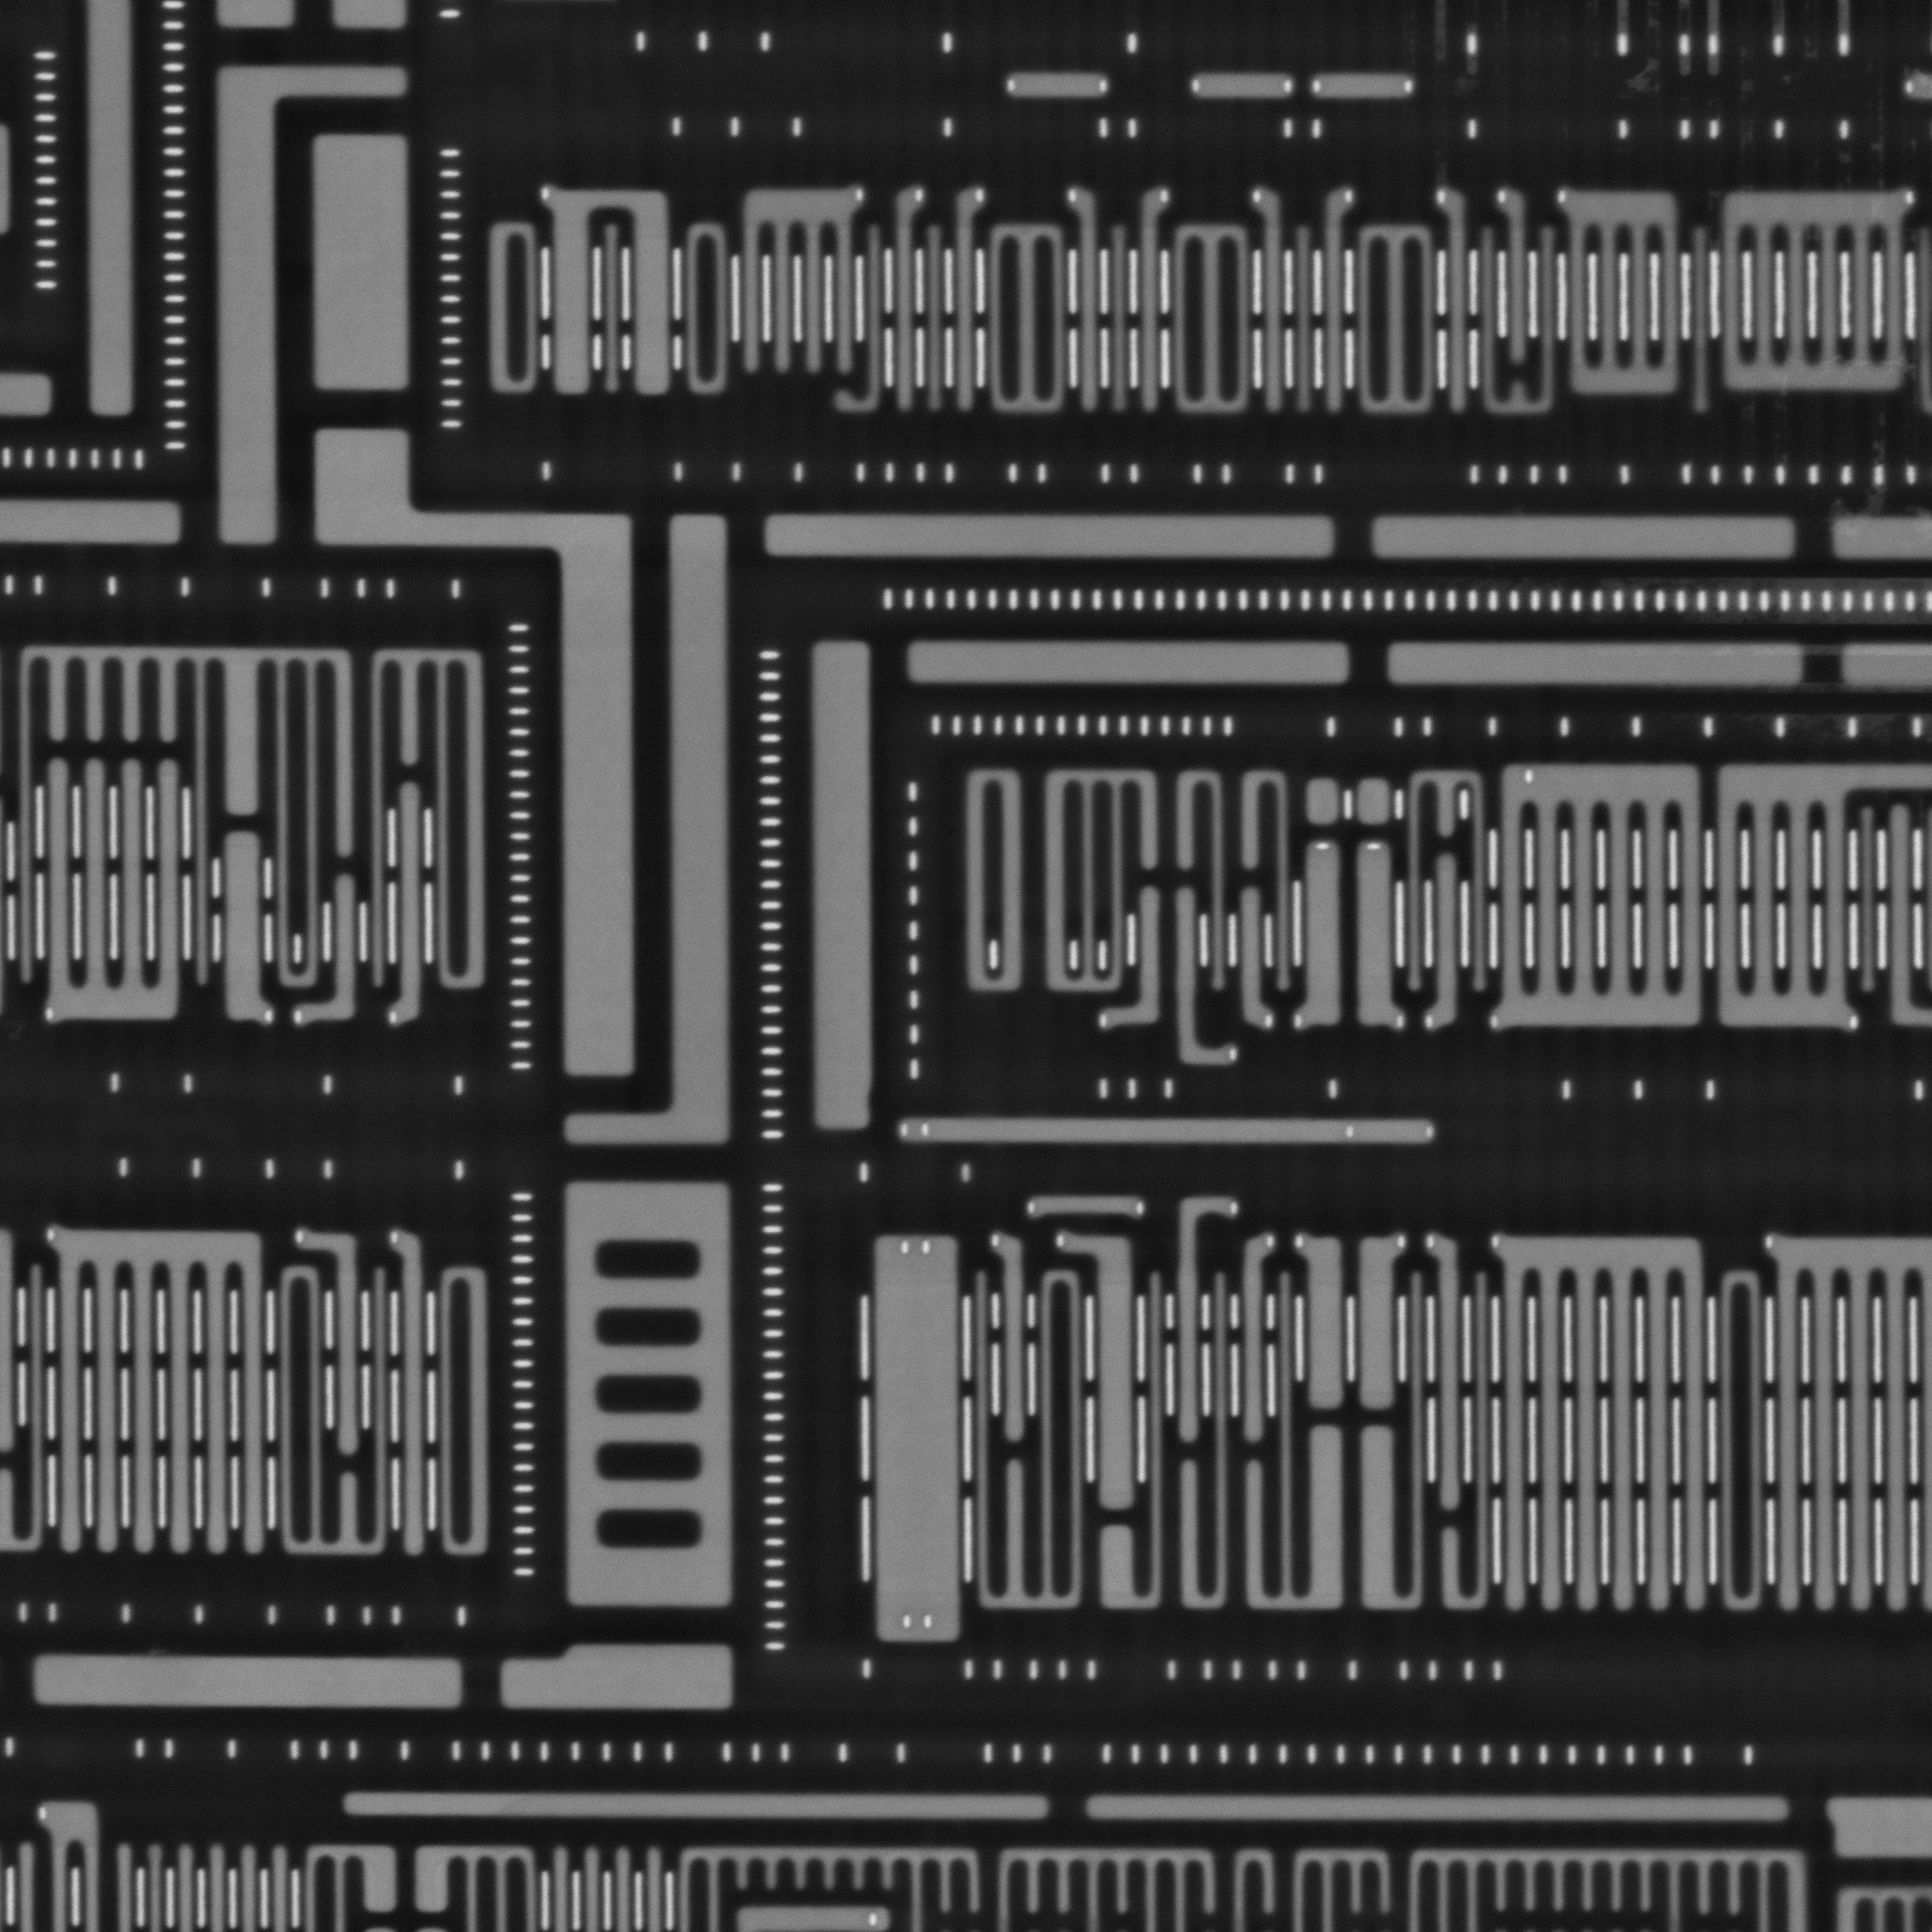circularDummy: (766, 510, 1339, 561), (814, 642, 869, 1131), (313, 129, 412, 391), (35, 1654, 469, 1713), (1088, 1794, 1794, 1824), (909, 642, 1353, 686), (1373, 513, 1799, 556), (499, 1640, 736, 1711), (347, 1794, 1049, 1817)
doubleGate: (531, 173, 685, 403)
insideDummy: (315, 426, 637, 1083), (556, 506, 741, 1148), (214, 65, 409, 552), (559, 1178, 745, 1614), (1391, 640, 1808, 692)
multiGate: (1486, 1233, 1718, 1621), (39, 1224, 281, 1559), (1762, 1230, 1932, 1614), (1490, 763, 1716, 1037), (1711, 766, 1932, 1039), (1707, 175, 1918, 398), (30, 748, 193, 1024), (1557, 179, 1691, 403), (727, 170, 869, 379)
publicGate: (1097, 878, 1244, 1069), (1293, 832, 1410, 1039)
resistor: (874, 1235, 959, 1640), (901, 1120, 1437, 1145), (1003, 69, 1115, 101), (1309, 71, 1419, 99), (1189, 69, 1297, 96)
singleGate: (855, 1228, 980, 1647), (1053, 1233, 1152, 1514), (1164, 1196, 1237, 1445), (294, 1224, 373, 1451), (389, 1226, 441, 1559), (1422, 1233, 1474, 1514), (292, 862, 366, 1044), (1288, 1233, 1359, 1417), (211, 819, 272, 1026), (1343, 1231, 1410, 1421), (985, 1230, 1044, 1444), (1430, 180, 1479, 428), (876, 173, 927, 405), (1060, 180, 1109, 416), (387, 780, 432, 1031), (939, 173, 985, 412), (1131, 182, 1177, 418), (1311, 182, 1357, 418), (1251, 182, 1293, 426), (1233, 1230, 1277, 1456), (1422, 855, 1470, 1039), (1226, 881, 1279, 1033), (1497, 179, 1539, 368)
